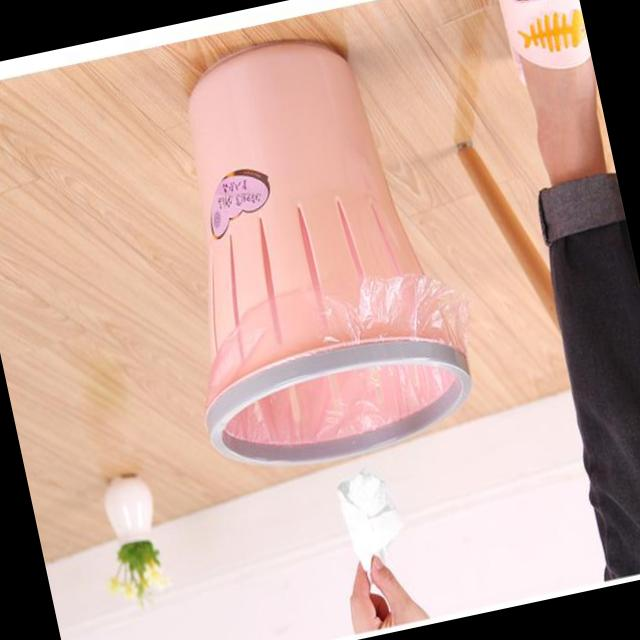dustbin: (115, 9, 490, 499)
